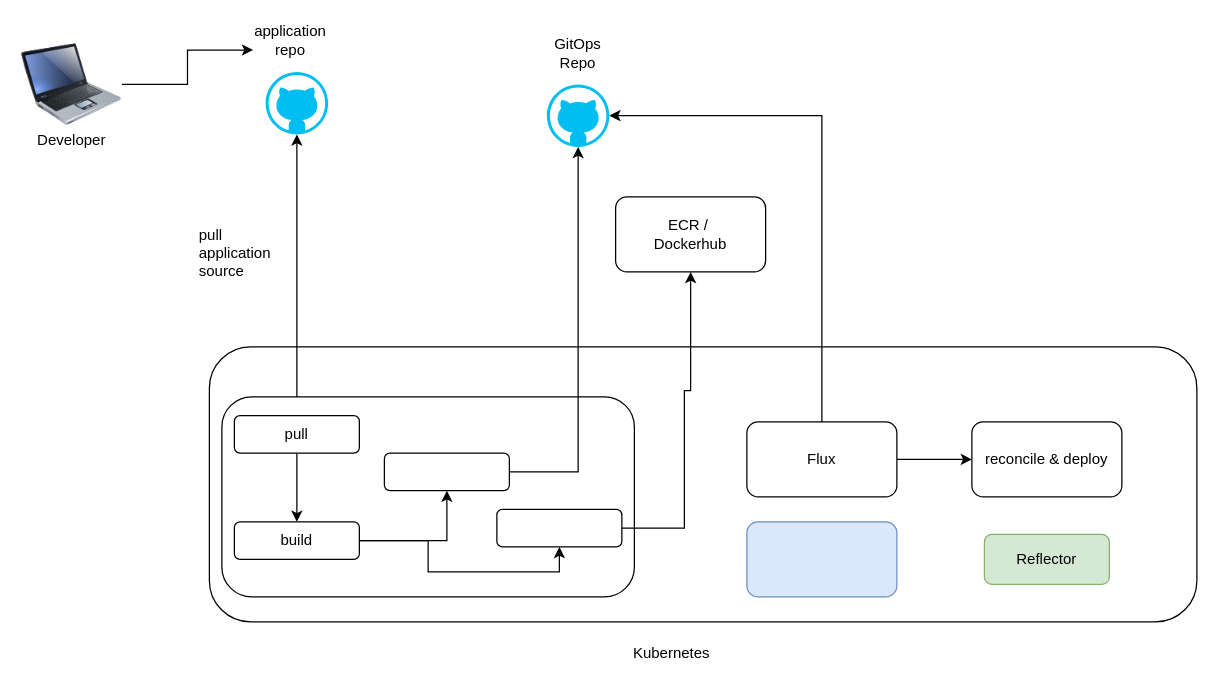
Image size: 1219x693. Some labels were removed from this diagram. The shapes that lost their labels are listed below. From the top down, each one's box as (x1, y1, x2, y2) in pixels, then its label:
(383, 452, 509, 491): git push
(496, 508, 622, 547): push image
(746, 521, 897, 597): Weave GitOps (observability)
